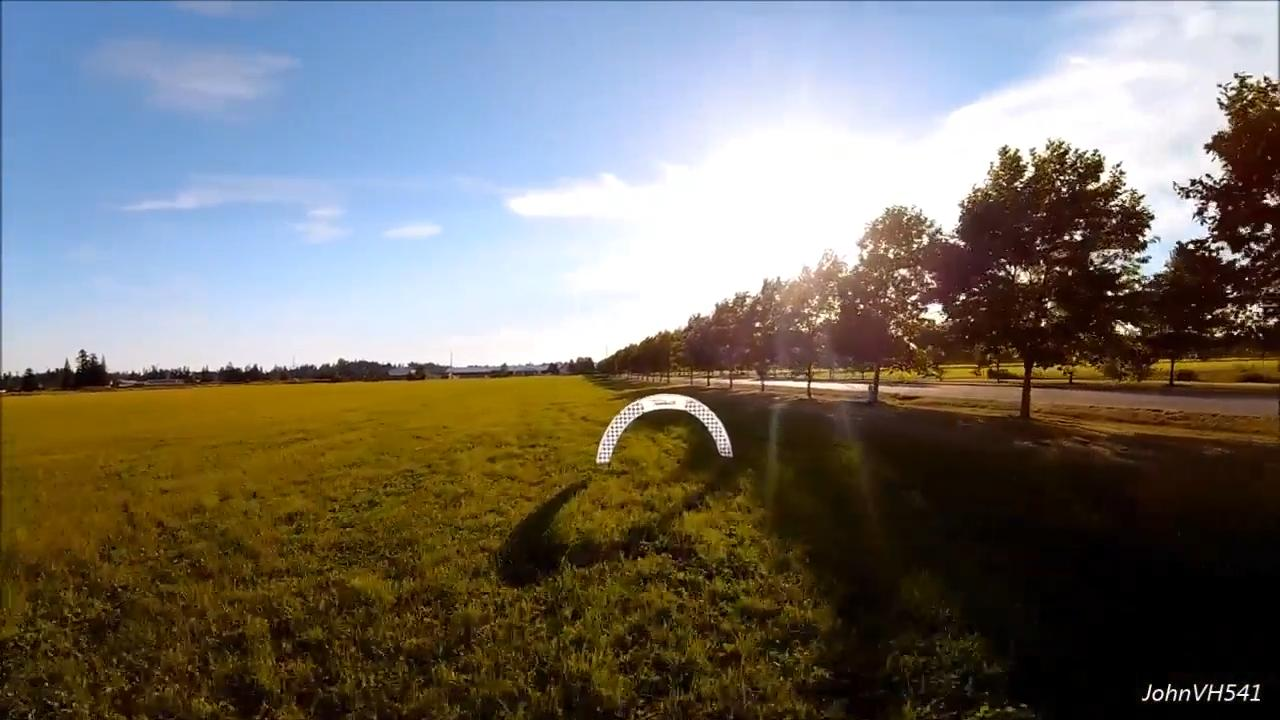gate: (595, 393, 735, 466)
